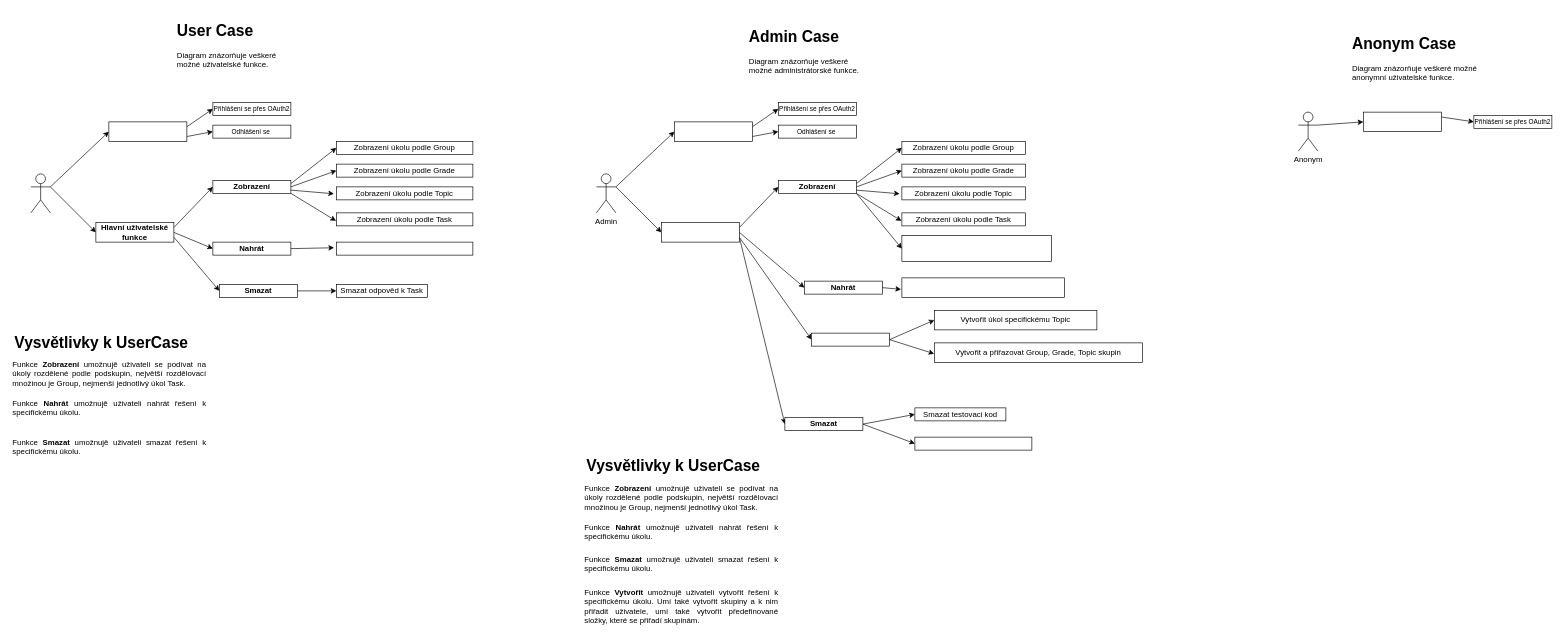
The diagram is 1563 pixels wide and 636 high, and some of its shapes have lost their labels. The centre of each missing label's shape, as x and y in pixels:
Hlavní admin funkce: (700,232)
Nahrát odpověd k Task: (404,248)
Nahrát testovacího kodu specifickému úkolu: (982,287)
Smazat úkol specifického Topic: (973,443)
Uživatel: (40,193)
Vytvořit: (850,339)
Zobrazení výsledků uživatelů podle Group, Grade, Topic Task: (976,248)
Základní admin funkce: (713,131)
Základní anonym funkce: (1402,121)
Základní uživatelské funkce: (147,131)
